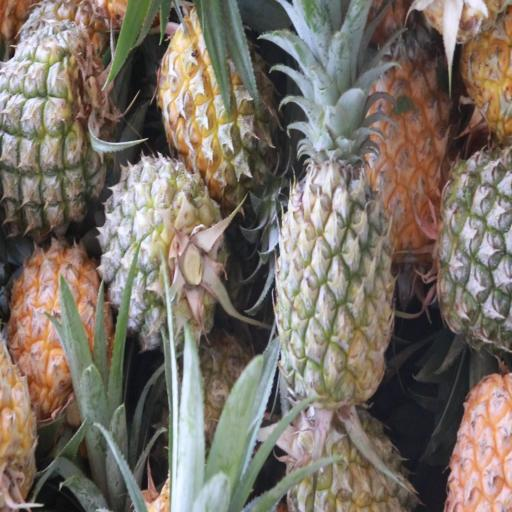------------------------------: (102, 159, 218, 353), (0, 42, 113, 224), (158, 14, 274, 190)
Pineapple - v8 v1: (367, 36, 453, 254), (13, 233, 113, 409)
